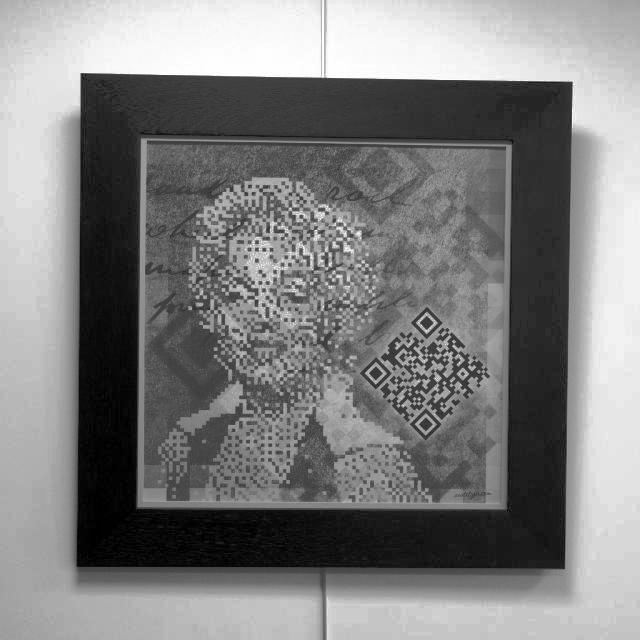qr_code: (360, 307, 493, 440)
